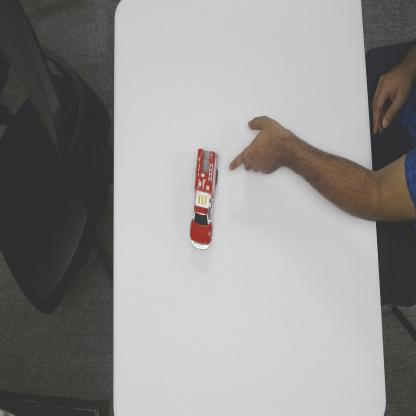Arm: (285, 119, 416, 228)
Firetruck: (187, 141, 222, 254)
Hand: (228, 111, 285, 177)
